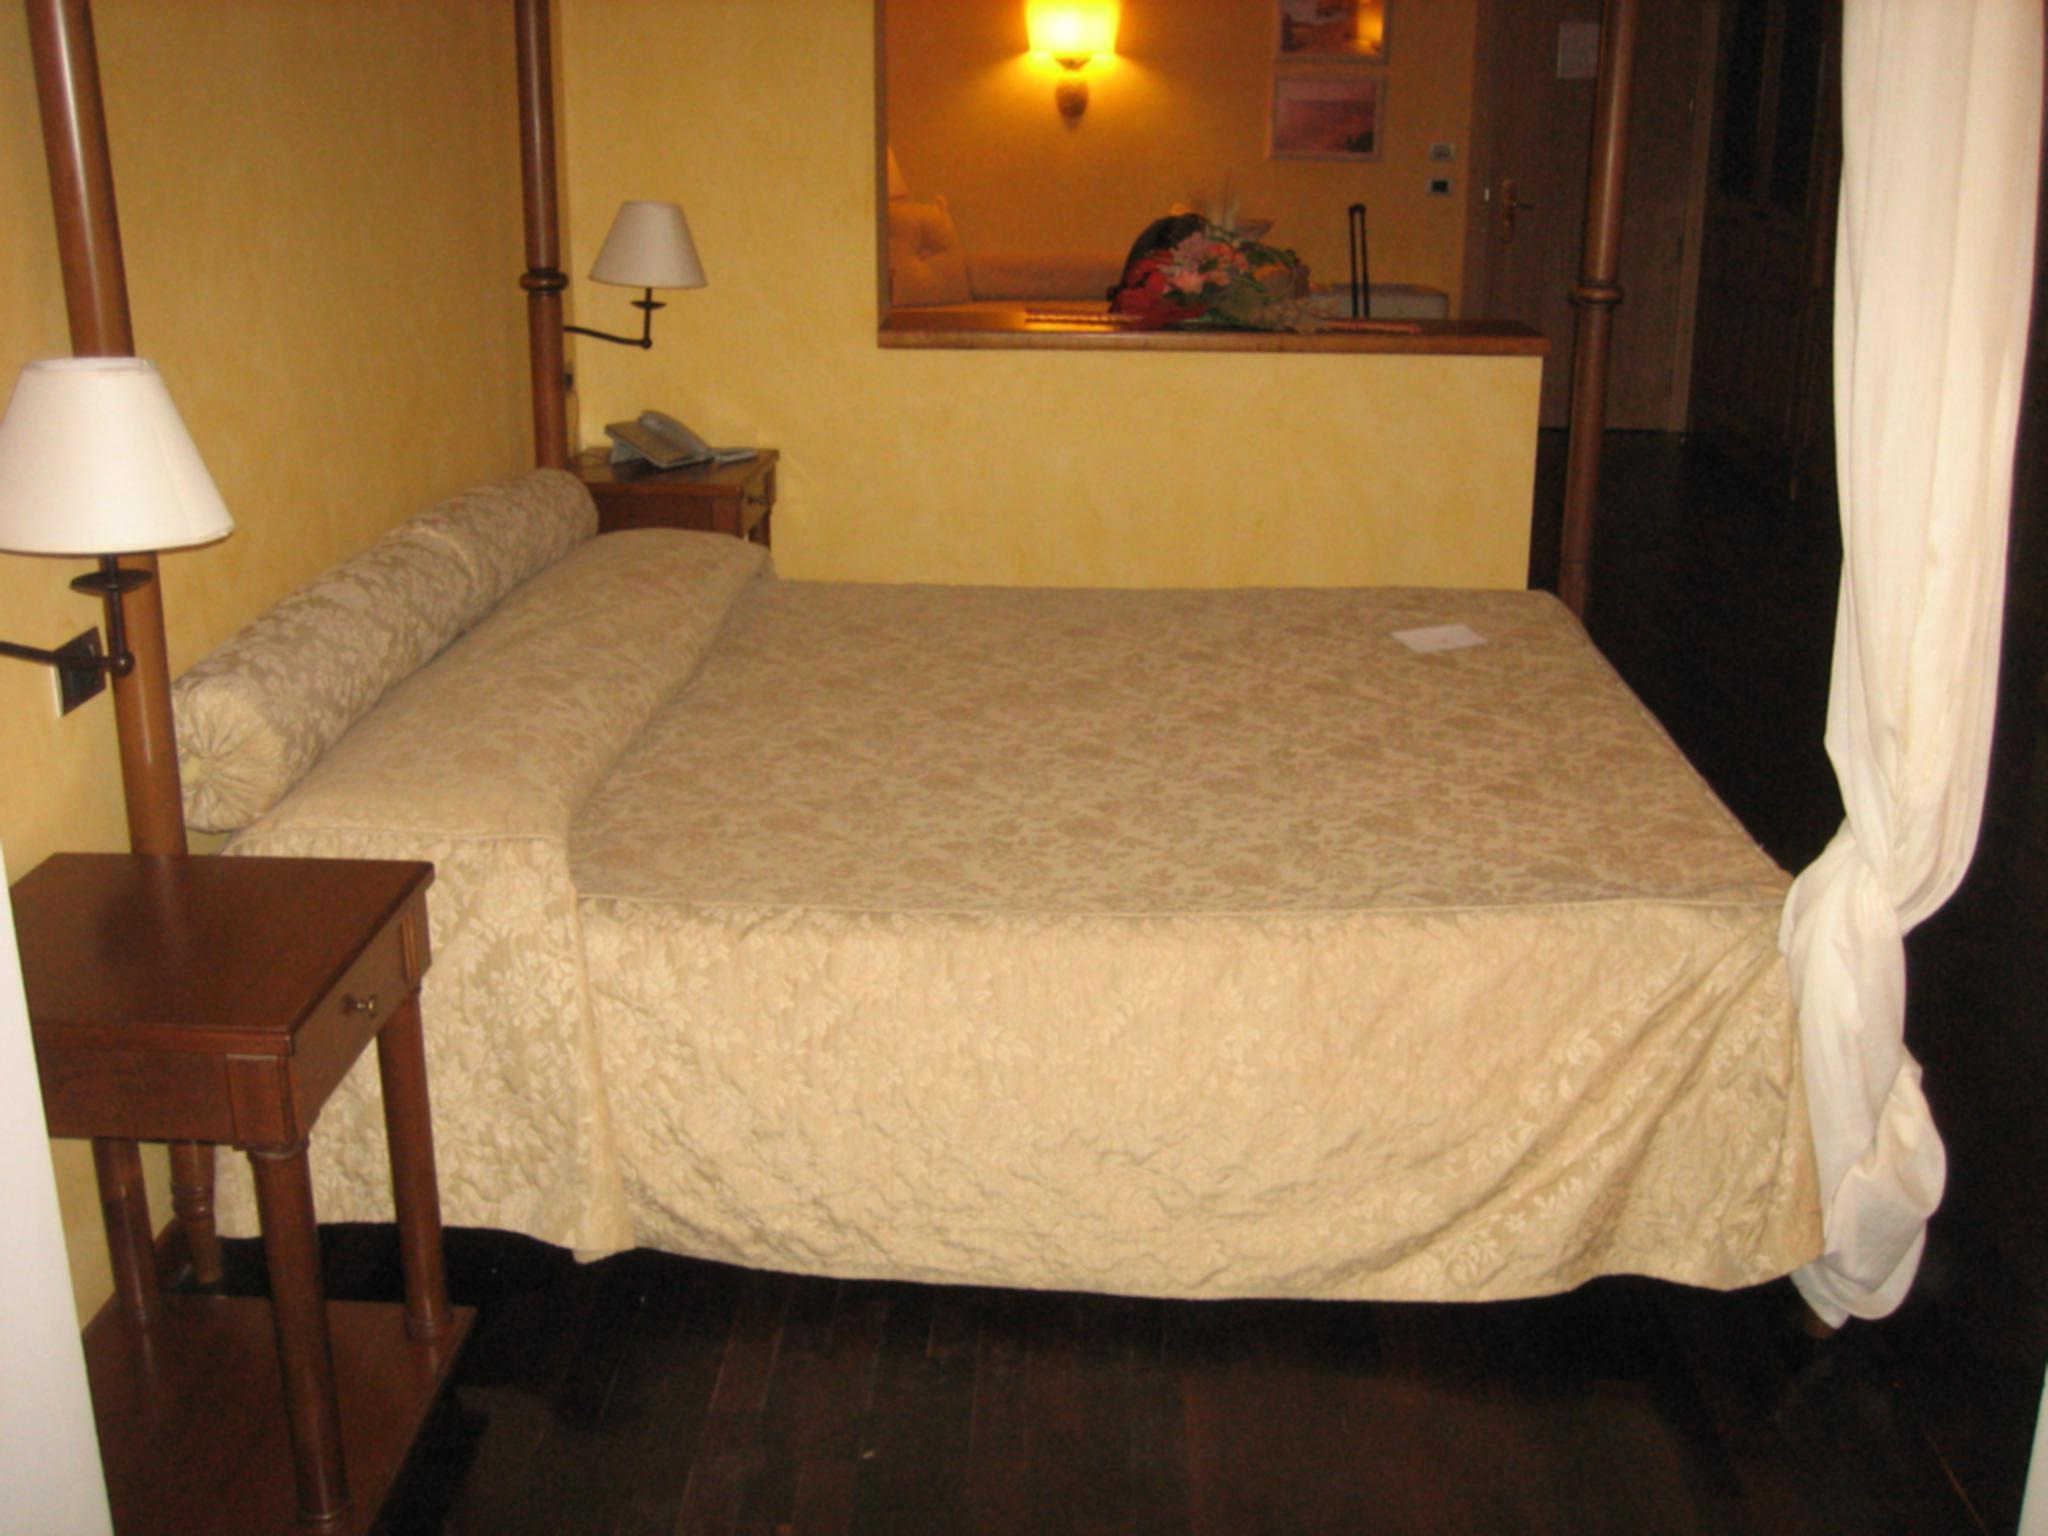Puerta: (1524, 15, 1703, 416)
